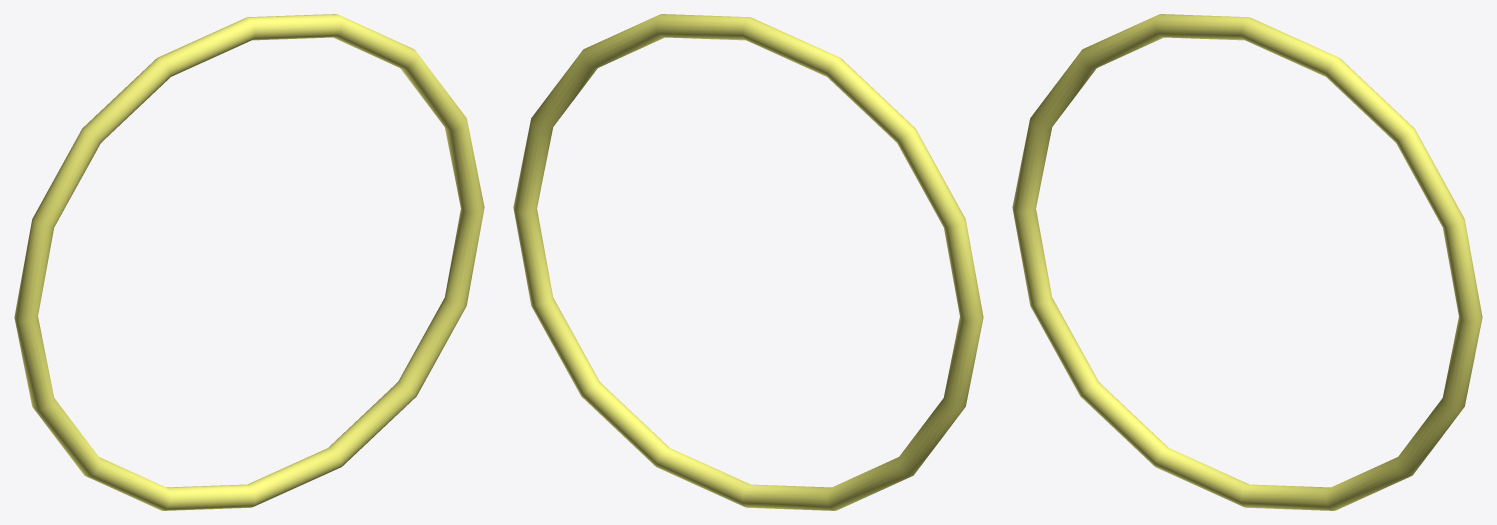
3 renders of one model, left to right at view 1: azimuth 30°, elevation 25°; view 2: azimuth 150°, elevation 25°; view 3: azimuth 330°, elevation 25°, orthographic.
Visible parts, largest first — view 1: 85546.dat; view 2: 85546.dat; view 3: 85546.dat.
Part boxes in pixels (x1,y1,x2,y2): 85546.dat: [14, 14, 484, 510]; 85546.dat: [513, 14, 983, 510]; 85546.dat: [1012, 14, 1482, 510].
Size of the model in its own units: 0.0345 by 0.0345 by 0.00152.
